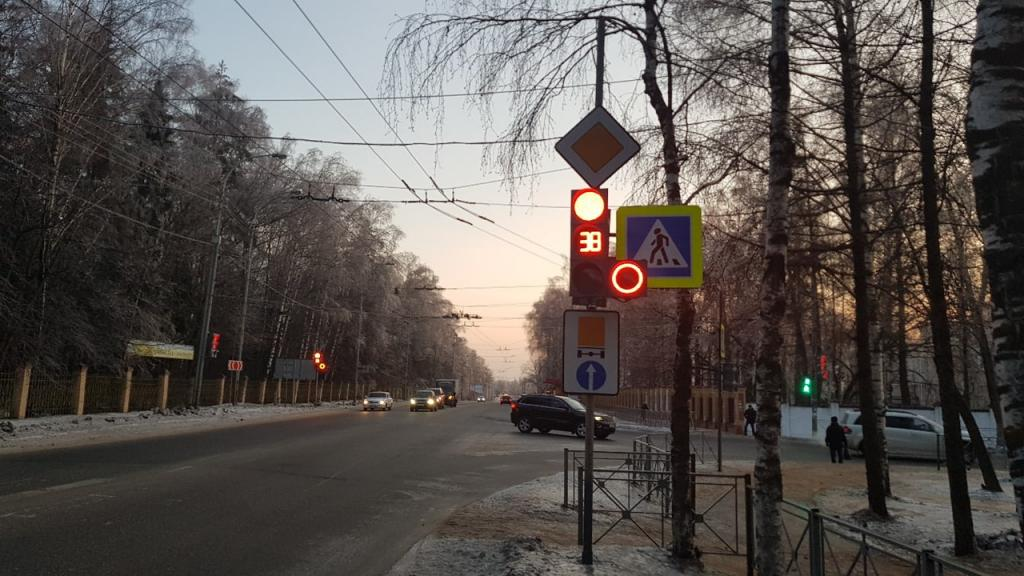tl: (566, 192, 649, 301)
